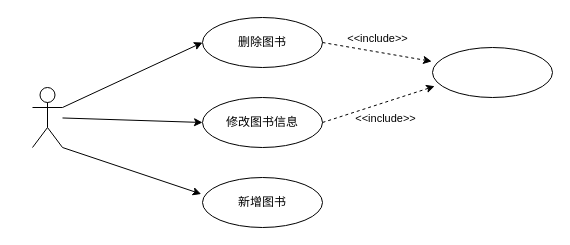
The diagram is 570 pixels wide and 245 high, and some of its shapes have lost their labels. Each missing label, with the box of its shape:
图书管理员: (32, 86, 62, 148)
查询图书: (432, 46, 552, 98)
